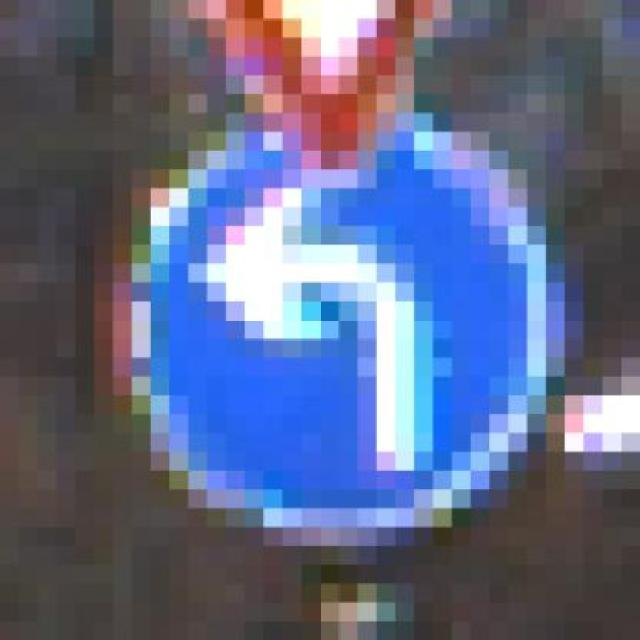Turn left ahead: (93, 94, 564, 546)
